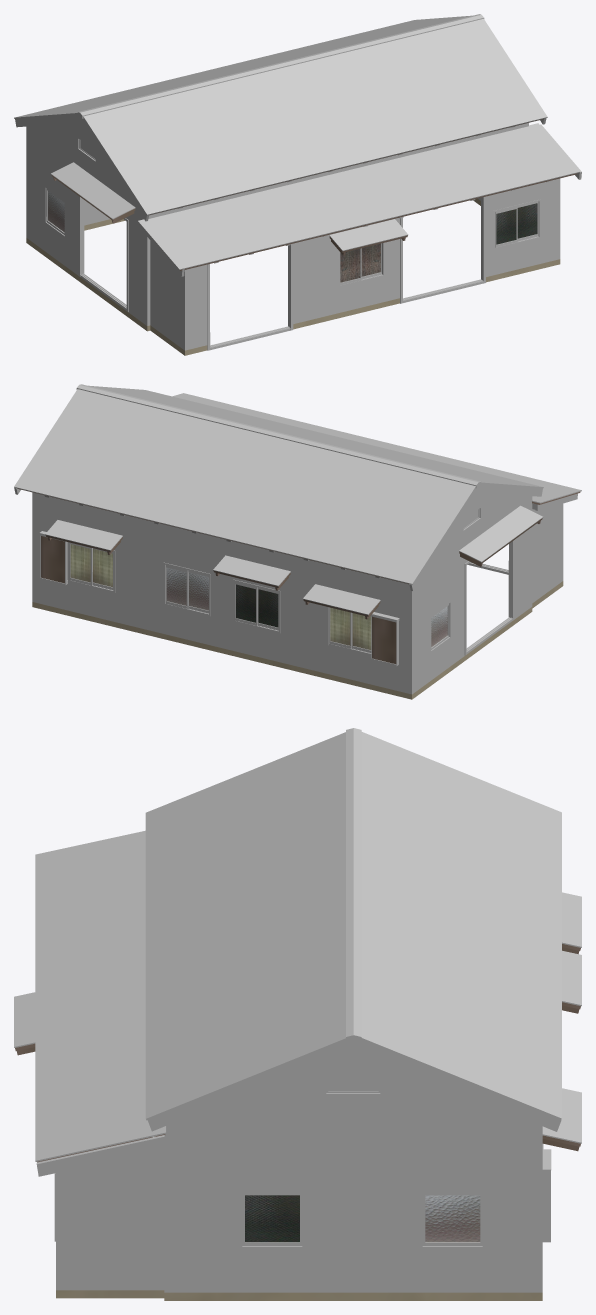
The model's file is JpHouse_02a.fbx.
3 views of the same model, one above another, from view 1: azimuth 30°, elevation 25°; view 2: azimuth 150°, elevation 25°; view 3: azimuth 270°, elevation 25° (orthographic). The views are drawn at different scales.
Parts seen in each view (by area): view 1: JpHouse_02a; view 2: JpHouse_02a; view 3: JpHouse_02a.
Boxes of the visible parts, <box> form: JpHouse_02a: <box>14,14,581,355</box>; JpHouse_02a: <box>14,384,581,699</box>; JpHouse_02a: <box>14,728,581,1300</box>.
Bounding box in the file's own units: 12.59 × 5.07 × 9.45.
